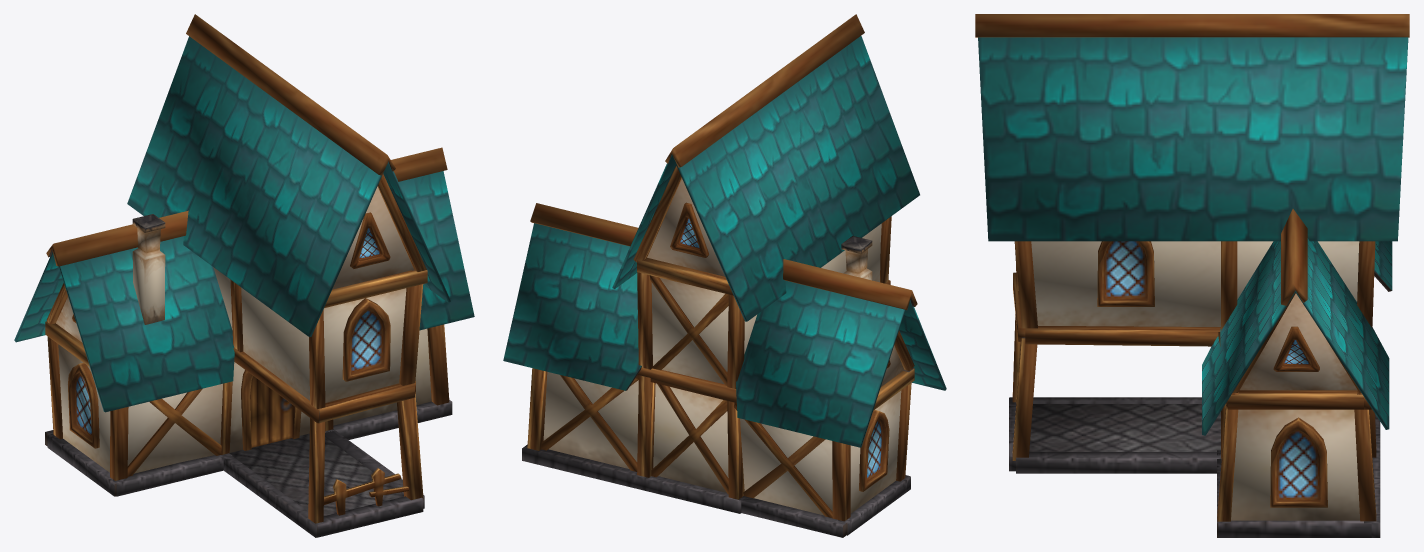
The model's file is building_2_2.FBX.
3 views of the same model, side by side, from view 1: azimuth 30°, elevation 25°; view 2: azimuth 150°, elevation 25°; view 3: azimuth 270°, elevation 25° (orthographic). The views are drawn at different scales.
Visible parts, largest first — view 1: building_2_2; view 2: building_2_2; view 3: building_2_2.
Boxes of the visible parts, x1,y1,x2,y2 form: building_2_2: [14, 14, 474, 537]; building_2_2: [503, 14, 946, 537]; building_2_2: [975, 14, 1409, 537].
Size of the model in its own units: 382 by 354 by 325.
